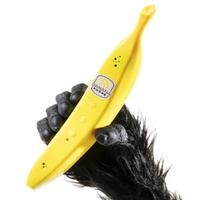banane: (23, 5, 157, 190)
